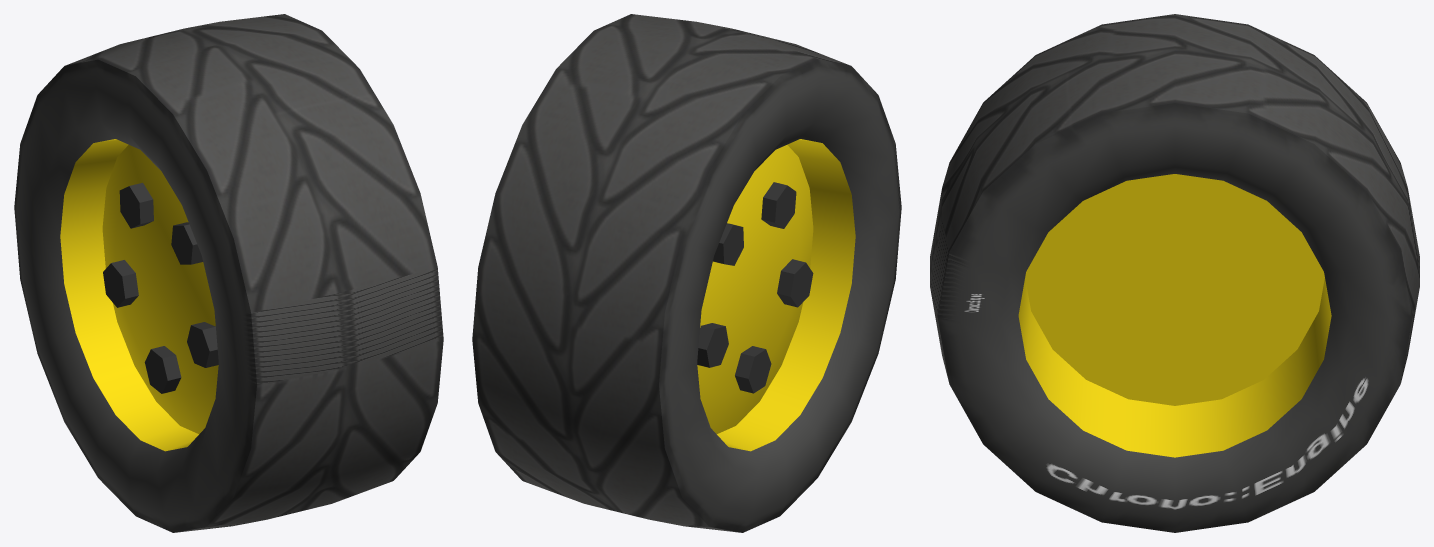
The model's file is wheel.obj.
The picture shows the model from 3 angles, left to right: view 1: azimuth 30°, elevation 25°; view 2: azimuth 150°, elevation 25°; view 3: azimuth 270°, elevation 25°; orthographic projection. The views are drawn at different scales.
Parts seen in each view (by area): view 1: wheel; view 2: wheel; view 3: wheel.
Boxes of the visible parts, box(x1,y1,x2,y2) form: wheel: box(14, 14, 443, 532); wheel: box(472, 14, 901, 532); wheel: box(930, 14, 1419, 532).
Bounding box in the file's own units: 0.2562 × 0.5584 × 0.5584.
Materials: 1 (1 with a texture image).
